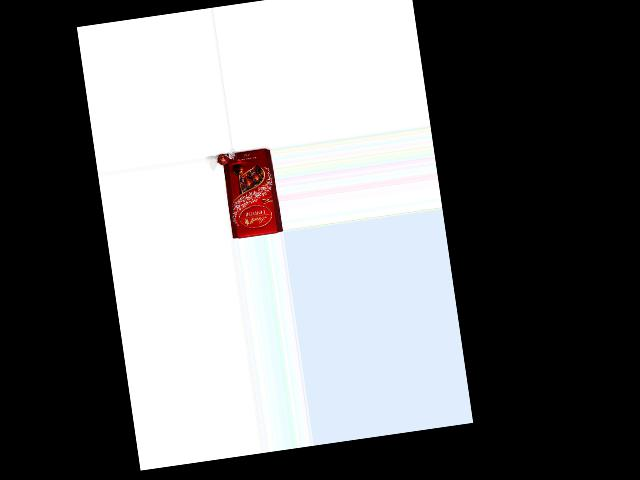chocolate: (215, 147, 282, 239)
